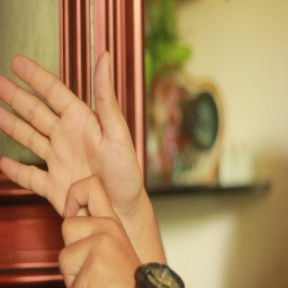R: (1, 50, 141, 288)
